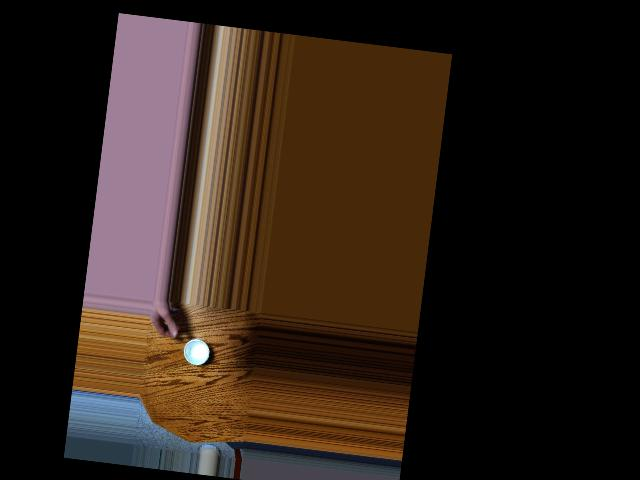cotage: (179, 333, 210, 366)
